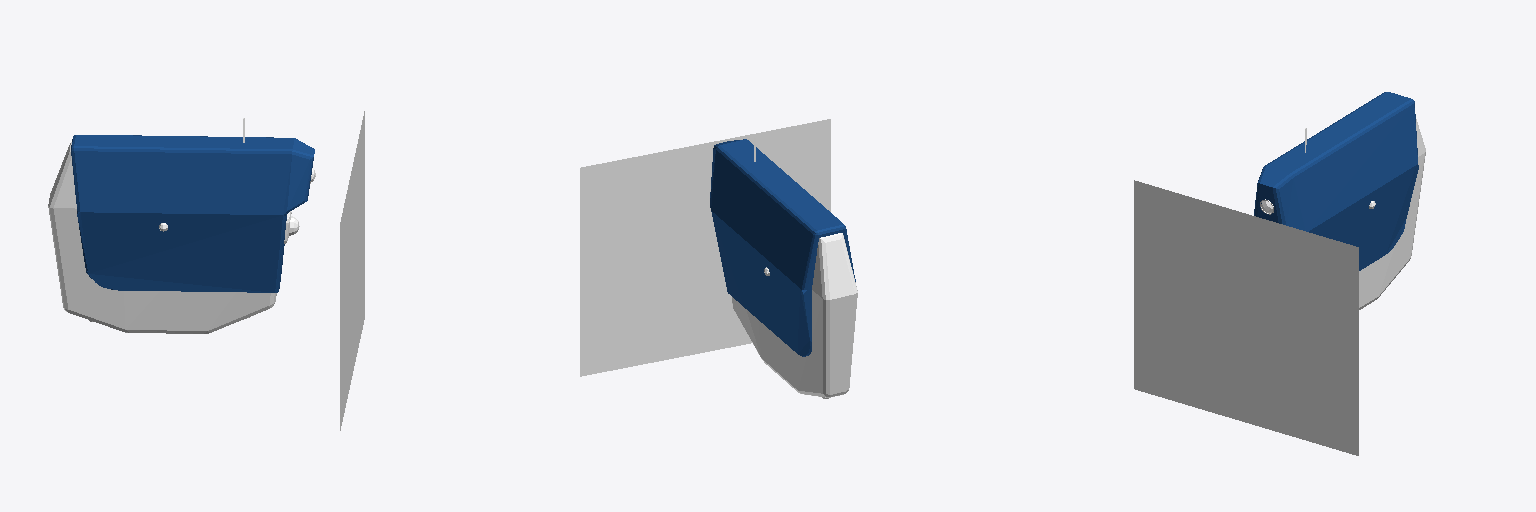
The model's file is drone.obj.
The picture shows the model from 3 angles: view 1: azimuth 30°, elevation 25°; view 2: azimuth 150°, elevation 25°; view 3: azimuth 270°, elevation 25°; orthographic projection.
Visible parts, largest first — view 1: blue, chrome, videoplane; view 2: videoplane, blue, chrome; view 3: videoplane, blue, chrome.
Part boxes in pixels (x1,y1,x2,y2): blue: (71,135,314,292); chrome: (48,142,312,333); videoplane: (340,111,364,430); videoplane: (580,119,830,376); blue: (710,139,855,356); chrome: (732,233,857,397); videoplane: (1134,180,1358,455); blue: (1254,92,1418,270); chrome: (1260,119,1425,309).
Bounding box in the file's own units: 43.74 × 36.13 × 37.39.